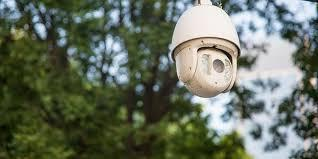maru: (169, 2, 243, 99)
